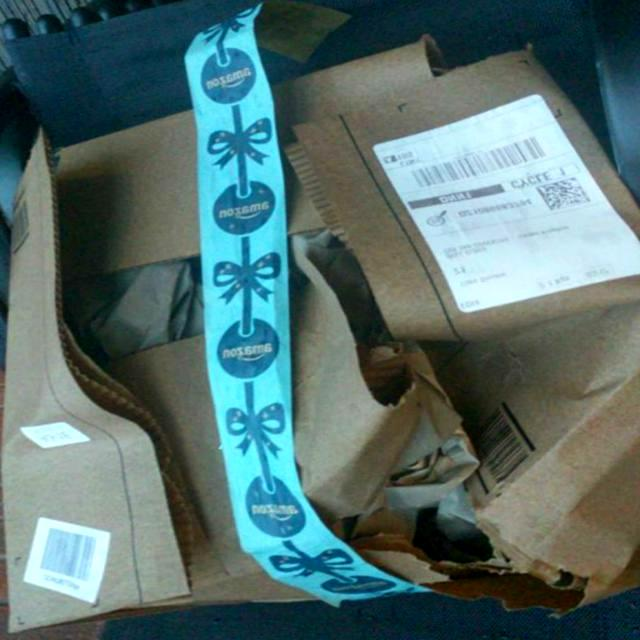Cardboard Box: (297, 305, 639, 524), (542, 483, 639, 562)
Defect: (0, 131, 196, 630), (437, 303, 639, 578), (55, 113, 196, 326), (114, 336, 233, 539), (299, 313, 384, 489), (296, 406, 417, 517), (82, 258, 201, 358), (146, 342, 216, 461), (298, 345, 336, 426)
